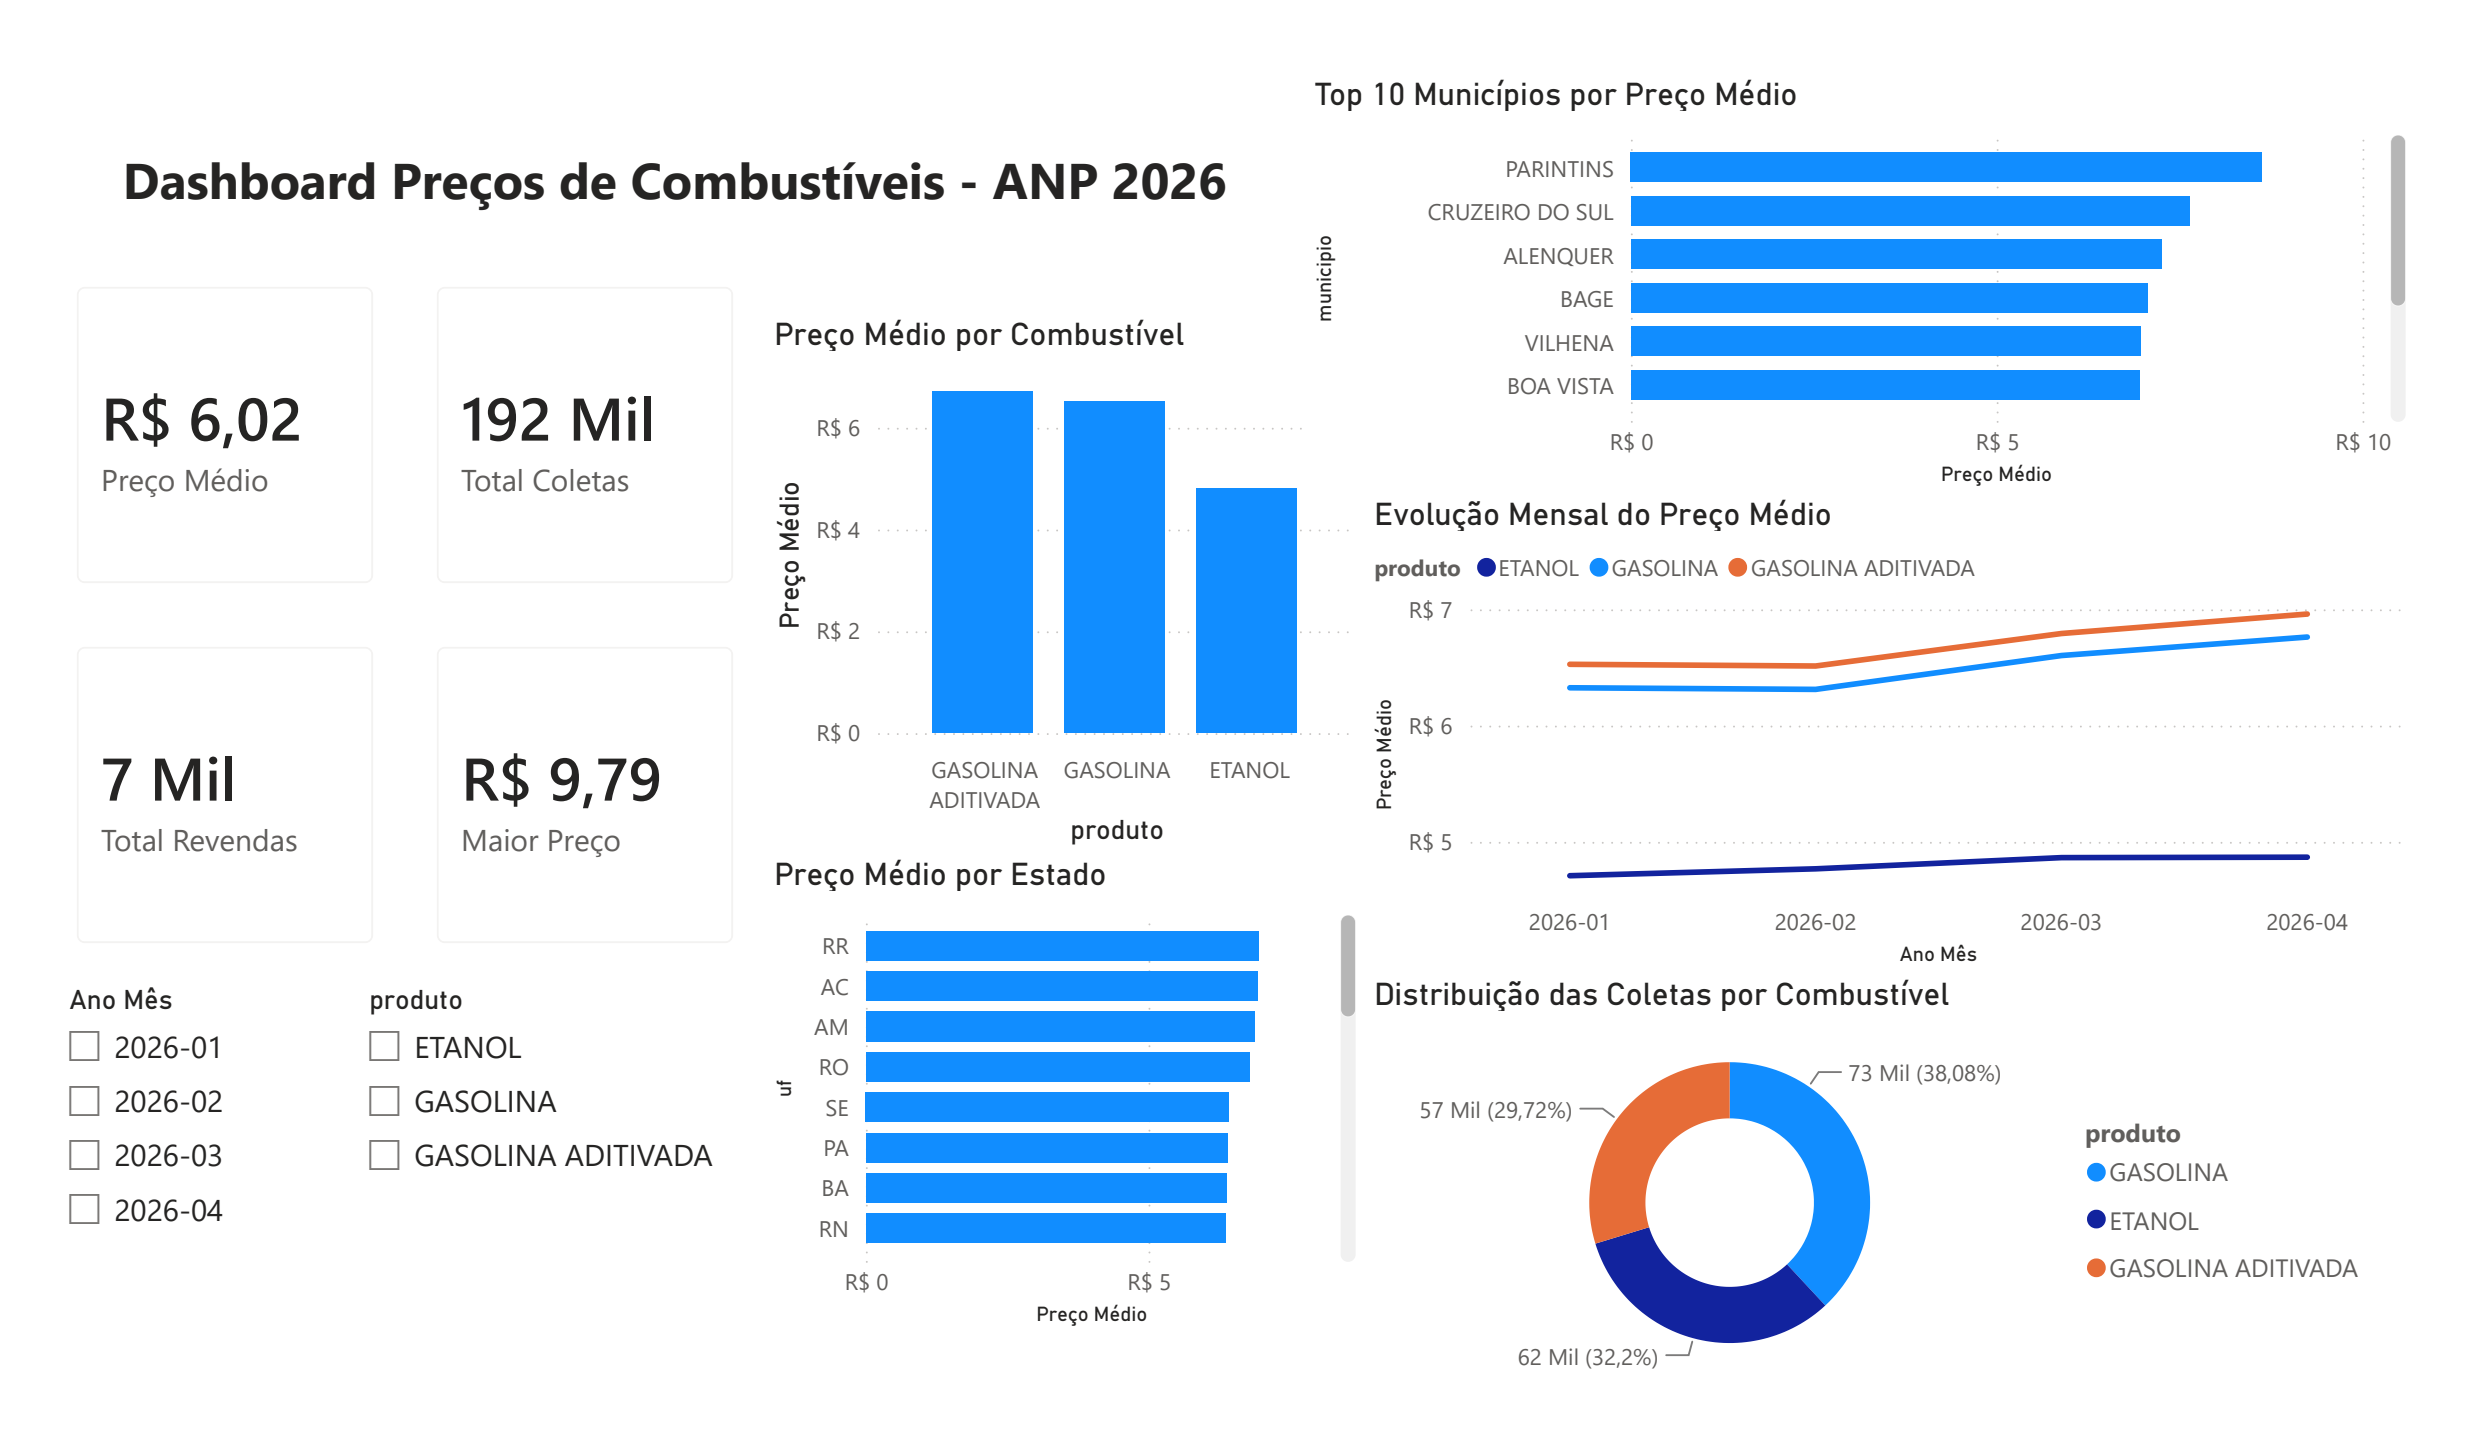

The page's visual inventory and layout, read from the dashboard file:
{"tool":"powerbi","page":{"name":"Página 1","canvas":[1280,720],"ordinal":0},"visuals":[{"type":"cardVisual","fields":{"Data":["Tabela_Master_Final.Preço Médio"]},"box":[0,112,192,192],"z":0},{"type":"cardVisual","fields":{"Data":["Tabela_Master_Final.Total Coletas"]},"box":[192,112,192,192],"z":1000},{"type":"cardVisual","fields":{"Data":["Tabela_Master_Final.Total Revendas"]},"box":[0,304,192,192],"z":2000},{"type":"cardVisual","fields":{"Data":["Tabela_Master_Final.Maior Preço"]},"box":[192,304,192,192],"z":3000},{"type":"slicer","fields":{"Values":["Tabela_Master_Final.Ano Mês"]},"box":[0,496,160,192],"z":4000},{"type":"slicer","fields":{"Values":["Tabela_Master_Final.produto"]},"box":[160,496,224,192],"z":5000},{"type":"clusteredColumnChart","title":"Preço Médio por Combustível","fields":{"Category":["Tabela_Master_Final.produto"],"Y":["Tabela_Master_Final.Preço Médio"]},"box":[384,144,320,288],"z":6000},{"type":"lineChart","title":"Evolução Mensal do Preço Médio","fields":{"Category":["Tabela_Master_Final.Ano Mês"],"Y":["Tabela_Master_Final.Preço Médio"],"Series":["Tabela_Master_Final.produto"]},"box":[704,240,560,256],"z":7000},{"type":"clusteredBarChart","title":"Preço Médio por Estado","fields":{"Category":["Tabela_Master_Final.uf"],"Y":["Tabela_Master_Final.Preço Médio"]},"box":[384,432,320,256],"z":8000},{"type":"donutChart","title":"Distribuição das Coletas por Combustível","fields":{"Category":["Tabela_Master_Final.produto"],"Y":["Tabela_Master_Final.Total Coletas"]},"box":[704,496,544,224],"z":9000},{"type":"textbox","box":[32,48,608,64],"z":10000},{"type":"clusteredBarChart","title":"Top 10 Municípios por Preço Médio","fields":{"Category":["Tabela_Master_Final.municipio"],"Y":["Tabela_Master_Final.Preço Médio"]},"box":[672,16,592,224],"z":11000}]}

Visuals, with their boxes in screenshot pixels (x1, y1, x2, y2), scaled from the page's 1280x720 canvas onto the 2490x1440 screenshot:
cardVisual - Tabela_Master_Final.Preço Médio: l=0, t=224, r=374, b=608
cardVisual - Tabela_Master_Final.Total Coletas: l=374, t=224, r=747, b=608
cardVisual - Tabela_Master_Final.Total Revendas: l=0, t=608, r=374, b=992
cardVisual - Tabela_Master_Final.Maior Preço: l=374, t=608, r=747, b=992
slicer - Tabela_Master_Final.Ano Mês: l=0, t=992, r=311, b=1376
slicer - Tabela_Master_Final.produto: l=311, t=992, r=747, b=1376
"Preço Médio por Combustível" clusteredColumnChart: l=747, t=288, r=1370, b=864
"Evolução Mensal do Preço Médio" lineChart: l=1370, t=480, r=2459, b=992
"Preço Médio por Estado" clusteredBarChart: l=747, t=864, r=1370, b=1376
"Distribuição das Coletas por Combustível" donutChart: l=1370, t=992, r=2428, b=1439
textbox: l=62, t=96, r=1245, b=224
"Top 10 Municípios por Preço Médio" clusteredBarChart: l=1307, t=32, r=2459, b=480
